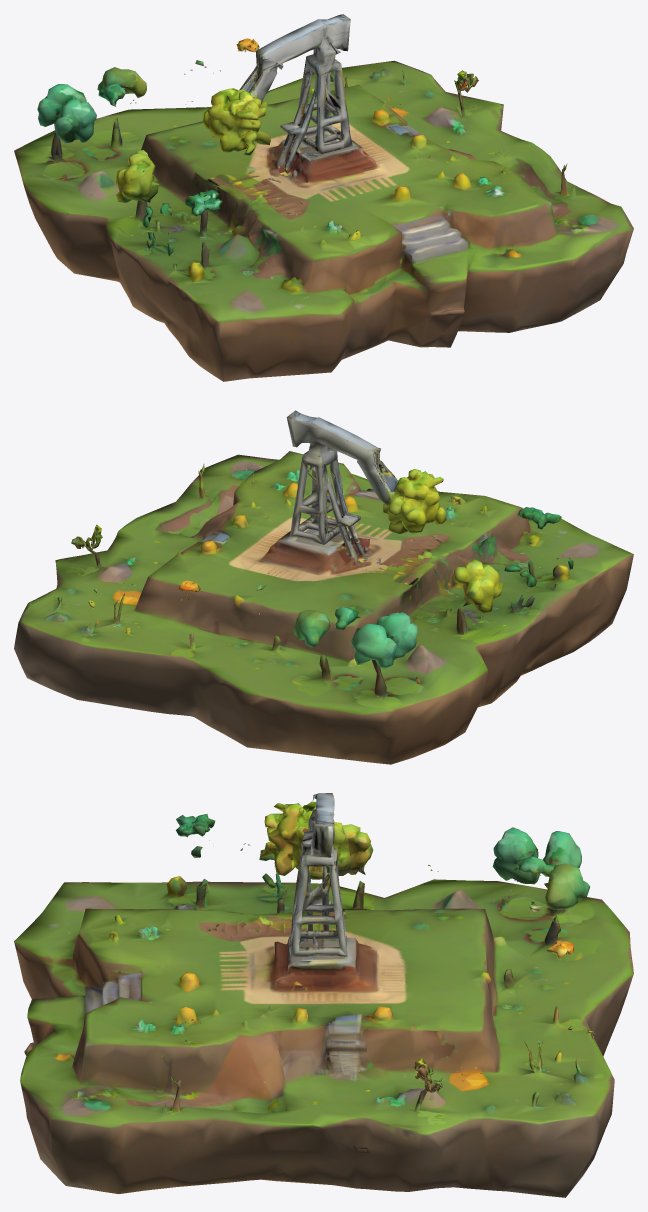
The model's file is Petroleo.glb.
3 views of the same model, one above another, from view 1: azimuth 30°, elevation 25°; view 2: azimuth 150°, elevation 25°; view 3: azimuth 270°, elevation 25° (orthographic). The views are drawn at different scales.
Bounding box in the file's own units: 1.95 × 1.14 × 2.
1 material, 1 textured.
